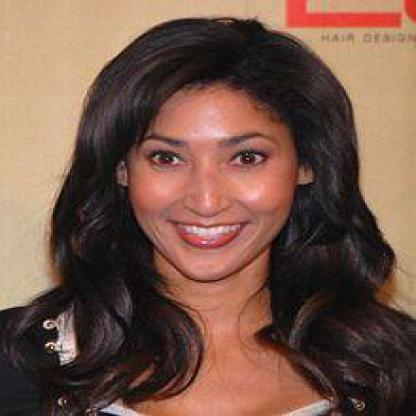long-hair: (59, 280, 378, 331)
